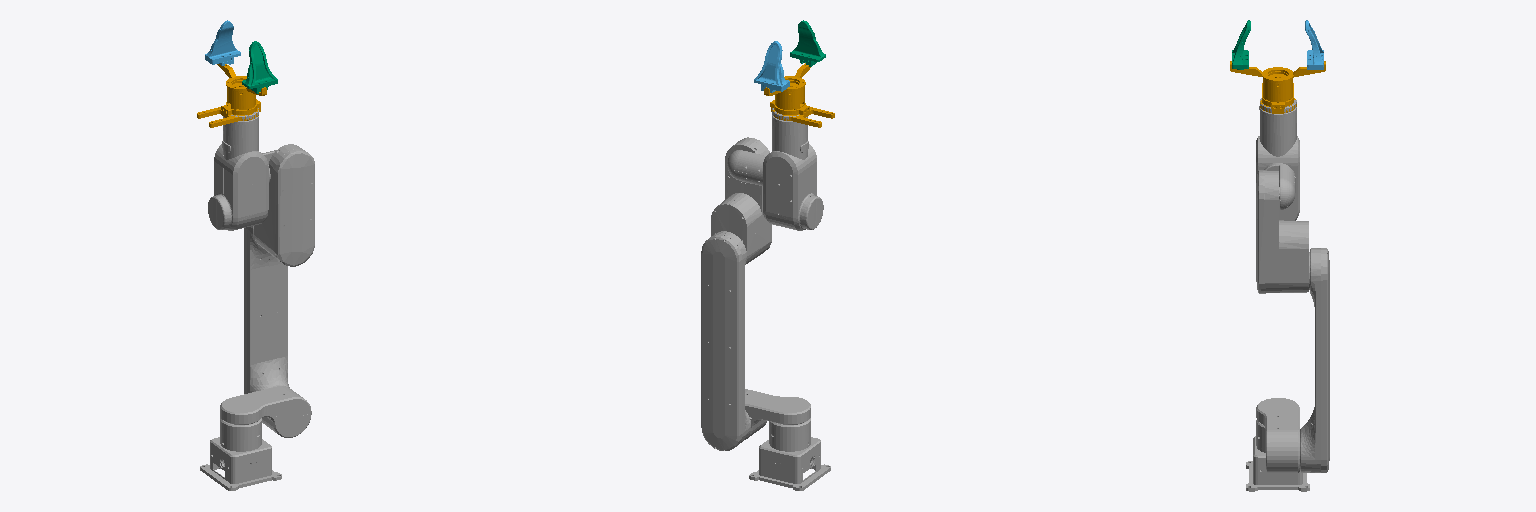
URDF robot description (spark2_v2_2):
<?xml version="1.0" ?>
<!-- =================================================================================== -->
<!-- |    This document was autogenerated by xacro from spark2_stl.xacro               | -->
<!-- |    EDITING THIS FILE BY HAND IS NOT RECOMMENDED                                 | -->
<!-- =================================================================================== -->
<robot name="spark2_v2_2">
  <mujoco>
    <compiler balanceinertia="true" discardvisual="false" meshdir="meshes"/>
  </mujoco>
  <material name="silver">
    <color rgba="0.700 0.700 0.700 1.000"/>
  </material>
  <link name="arm_base_link">
    <inertial>
      <origin rpy="0 0 0" xyz="0.000678366020361619 0.000650450303024658 0.0419206716961152"/>
      <mass value="0.415365145484454"/>
      <inertia ixx="0.000521278292861762" ixy="2.21370688018714E-06" ixz="3.53401377721654E-07" iyy="0.000499821552472947" iyz="1.19059750488371E-07" izz="0.000640044292539751"/>
    </inertial>
    <visual>
      <origin rpy="0 -0 0" xyz="0 0 0"/>
      <geometry>
        <mesh filename="meshes/arm/base_link.obj" scale="1 1 1"/>
      </geometry>
      <material name="silver"/>
    </visual>
    <collision>
      <origin rpy="0 -0 0" xyz="0 0 0"/>
      <geometry>
        <mesh filename="meshes/arm/base_link.obj" scale="1 1 1"/>
      </geometry>
    </collision>
  </link>
  <link name="arm_L1">
    <inertial>
      <origin rpy="0 0 0" xyz="0.0523118115572577 0.00594580107075411 0.00983465410868319"/>
      <mass value="0.534905861017287"/>
      <inertia ixx="0.000276838854041804" ixy="-4.31570539270566E-05" ixz="0.000115785773545033" iyy="0.000833335936719246" iyz="1.45298376550128E-05" izz="0.00081293822684724"/>
    </inertial>
    <visual>
      <origin rpy="0 -0 0" xyz="0 0 0"/>
      <geometry>
        <mesh filename="meshes/arm/L1.obj" scale="1 1 1"/>
      </geometry>
      <material name="silver"/>
    </visual>
    <collision>
      <origin rpy="0 -0 0" xyz="0 0 0"/>
      <geometry>
        <mesh filename="meshes/arm/L1.obj" scale="1 1 1"/>
      </geometry>
    </collision>
  </link>
  <link name="arm_L2">
    <inertial>
      <origin rpy="0 0 0" xyz="0.178655385833371 1.16424483877497E-05 0.0695175784974708"/>
      <mass value="1.04321954132946"/>
      <inertia ixx="0.000510824708514096" ixy="-1.32571036792121E-06" ixz="0.000200596291448722" iyy="0.0114932589328011" iyz="4.43270884571876E-10" izz="0.0118746553216229"/>
    </inertial>
    <visual>
      <origin rpy="0 -0 0" xyz="0 0 0"/>
      <geometry>
        <mesh filename="meshes/arm/L2.obj" scale="1 1 1"/>
      </geometry>
      <material name="silver"/>
    </visual>
    <collision>
      <origin rpy="0 -0 0" xyz="0 0 0"/>
      <geometry>
        <mesh filename="meshes/arm/L2.obj" scale="1 1 1"/>
      </geometry>
    </collision>
  </link>
  <link name="arm_L3">
    <inertial>
      <origin rpy="0 0 0" xyz="0.0685427075960562 3.46478452044191E-05 -0.000250345774393589"/>
      <mass value="0.604374693422943"/>
      <inertia ixx="0.00024224305007648" ixy="-8.02501252967998E-08" ixz="4.44546348099807E-05" iyy="0.00111923550432159" iyz="-7.1946457438659E-08" izz="0.00122911861120972"/>
    </inertial>
    <visual>
      <origin rpy="0 -0 0" xyz="0 0 0"/>
      <geometry>
        <mesh filename="meshes/arm/L3.obj" scale="1 1 1"/>
      </geometry>
      <material name="silver"/>
    </visual>
    <collision>
      <origin rpy="0 -0 0" xyz="0 0 0"/>
      <geometry>
        <mesh filename="meshes/arm/L3.obj" scale="1 1 1"/>
      </geometry>
    </collision>
  </link>
  <link name="arm_L4">
    <inertial>
      <origin rpy="0 0 0" xyz="3.85035658024835E-05 -0.0307497533444185 0.00771455130180919"/>
      <mass value="0.0680910386855528"/>
      <inertia ixx="5.02370842959246E-05" ixy="2.17941257400551E-08" ixz="-5.00505821446486E-09" iyy="1.3185332173706E-05" iyz="-5.35376641377241E-06" izz="4.80704614940244E-05"/>
    </inertial>
    <visual>
      <origin rpy="0 -0 0" xyz="0 0 0"/>
      <geometry>
        <mesh filename="meshes/arm/L4.obj" scale="1 1 1"/>
      </geometry>
      <material name="silver"/>
    </visual>
    <collision>
      <origin rpy="0 -0 0" xyz="0 0 0"/>
      <geometry>
        <mesh filename="meshes/arm/L4.obj" scale="1 1 1"/>
      </geometry>
    </collision>
  </link>
  <link name="arm_L5">
    <inertial>
      <origin rpy="0 0 0" xyz="6.5958025867564E-06 -0.00964895937031807 -0.000559142359287028"/>
      <mass value="0.666007703225141"/>
      <inertia ixx="0.000648028666449104" ixy="1.19136949417991E-07" ixz="-2.20406752608483E-07" iyy="0.00031206466544187" iyz="7.07164219256724E-06" izz="0.000664872886215904"/>
    </inertial>
    <visual>
      <origin rpy="0 -0 0" xyz="0 0 0"/>
      <geometry>
        <mesh filename="meshes/arm/L5.obj" scale="1 1 1"/>
      </geometry>
      <material name="silver"/>
    </visual>
    <collision>
      <origin rpy="0 -0 0" xyz="0 0 0"/>
      <geometry>
        <mesh filename="meshes/arm/L5.obj" scale="1 1 1"/>
      </geometry>
    </collision>
  </link>
  <link name="arm_L6">
    <inertial>
      <origin rpy="0 0 0" xyz="3.69716788001396E-15 -2.31531373934279E-16 0.00822650479261355"/>
      <mass value="0.0600936238717863"/>
      <inertia ixx="1.88959303343739E-05" ixy="5.03820847703936E-22" ixz="-4.24468440030164E-21" iyy="1.88959303343739E-05" iyz="-3.47054644732753E-22" izz="3.62039072584336E-05"/>
    </inertial>
    <visual>
      <origin rpy="0 -0 0" xyz="0 0 0"/>
      <geometry>
        <mesh filename="meshes/arm/L6.obj" scale="1 1 1"/>
      </geometry>
      <material name="silver"/>
    </visual>
    <collision>
      <origin rpy="0 -0 0" xyz="0 0 0"/>
      <geometry>
        <mesh filename="meshes/arm/L6.obj" scale="1 1 1"/>
      </geometry>
    </collision>
  </link>
  <joint name="arm_J1" type="revolute">
    <origin rpy="0 0 0" xyz="0 0 0.0982000000000019"/>
    <parent link="arm_base_link"/>
    <child link="arm_L1"/>
    <axis xyz="0 0 1"/>
    <limit effort="0" lower="-3.141593" upper="3.141593" velocity="0"/>
  </joint>
  <joint name="arm_J2" type="revolute">
    <origin rpy="-1.5708 -1.5708 0" xyz="0.096 0 0"/>
    <parent link="arm_L1"/>
    <child link="arm_L2"/>
    <axis xyz="0 0 1"/>
    <limit effort="0" lower="-1.570796" upper="1.570796" velocity="0"/>
  </joint>
  <joint name="arm_J3" type="revolute">
    <origin rpy="0 0 0" xyz="0.3465 0 0"/>
    <parent link="arm_L2"/>
    <child link="arm_L3"/>
    <axis xyz="0 0 1"/>
    <limit effort="0" lower="-3.141593" upper="3.141593" velocity="0"/>
  </joint>
  <joint name="arm_J4" type="revolute">
    <origin rpy="0 0 0" xyz="0.15 0 0"/>
    <parent link="arm_L3"/>
    <child link="arm_L4"/>
    <axis xyz="0 0 1"/>
    ·
            
    <limit effort="0" lower="-0.1745" upper="3.141593" velocity="0"/>
  </joint>
  <joint name="arm_J5" type="revolute">
    <origin rpy="1.5708 -1.5708 0" xyz="0 -0.09572 0"/>
    <parent link="arm_L4"/>
    <child link="arm_L5"/>
    <axis xyz="0 0 1"/>
    <limit effort="0" lower="-3.141593" upper="3.141593" velocity="0"/>
  </joint>
  <joint name="arm_J6" type="revolute">
    <origin rpy="1.5708 0 0" xyz="0 -0.1189 0"/>
    <parent link="arm_L5"/>
    <child link="arm_L6"/>
    <axis xyz="0 0 1"/>
    <limit effort="0" lower="-6.2831853" upper="6.2831853" velocity="0"/>
  </joint>
  <link name="arm_end_effector">
        </link>
  <joint name="arm_J7" type="fixed">
    <origin rpy="0 0 0" xyz="0 0 0"/>
    <parent link="arm_L6"/>
    <child link="arm_end_effector"/>
  </joint>
  <link name="gripper_base_link">
    <inertial>
      <origin rpy="0 0 0" xyz="-4.57881274589476E-07 0.00292048565174834 0.035228292855448"/>
      <mass value="0.139307939402755"/>
      <inertia ixx="5.09788715698113E-05" ixy="1.05201596434374E-09" ixz="2.54812926574347E-10" iyy="6.93741051330098E-05" iyz="-3.43895263735984E-07" izz="0.000109465850575503"/>
    </inertial>
    <visual name="base_link_visual">
      <origin rpy="0 0 0" xyz="0 0 0"/>
      <geometry>
        <mesh filename="meshes/gripper/base_link.stl" scale="1 1 1"/>
      </geometry>
    </visual>
    <collision name="base_link_collision">
      <origin rpy="0 0 0" xyz="0 0 0"/>
      <geometry>
        <mesh filename="meshes/gripper/base_link.stl" scale="1 1 1"/>
      </geometry>
    </collision>
  </link>
  <link name="gripper_L1">
    <inertial>
      <origin rpy="0 0 0" xyz="-0.0027017 -0.065055 -0.017375"/>
      <mass value="0.068045"/>
      <inertia ixx="1.738E-05" ixy="4.8616E-07" ixz="6.8131E-09" iyy="1.1991E-05" iyz="-2.6673E-06" izz="2.134E-05"/>
    </inertial>
    <visual name="L1_visual">
      <origin rpy="0 0 0" xyz="0 0 0"/>
      <geometry>
        <mesh filename="meshes/gripper/L1.stl" scale="1 1 1"/>
      </geometry>
    </visual>
    <collision name="L1_collision">
      <origin rpy="0 0 0" xyz="0 0 0"/>
      <geometry>
        <mesh filename="meshes/gripper/L1.stl" scale="1 1 1"/>
      </geometry>
    </collision>
  </link>
  <joint name="gripper_J1" type="prismatic">
    <origin rpy="1.5708 0 -1.5708" xyz="0.047697 0 0.16189"/>
    <parent link="gripper_base_link"/>
    <child link="gripper_L1"/>
    <axis xyz="0 0 -1"/>
    <limit effort="5" lower="-0.0477" upper="0" velocity="10"/>
  </joint>
  <link name="gripper_L2">
    <inertial>
      <origin rpy="0 0 0" xyz="0 0 0"/>
      <mass value="0"/>
      <inertia ixx="0" ixy="0" ixz="0" iyy="0" iyz="0" izz="0"/>
    </inertial>
    <visual name="L2_visual">
      <origin rpy="0 0 0" xyz="0 0 0"/>
      <geometry>
        <mesh filename="meshes/gripper/L2.stl" scale="1 1 1"/>
      </geometry>
    </visual>
    <collision name="L2_collision">
      <origin rpy="0 0 0" xyz="0 0 0"/>
      <geometry>
        <mesh filename="meshes/gripper/L2.stl" scale="1 1 1"/>
      </geometry>
    </collision>
  </link>
  <joint name="gripper_J1_1" type="prismatic">
    <origin rpy="1.5708 0 1.5708" xyz="-0.047697 0 0.16188"/>
    <parent link="gripper_base_link"/>
    <child link="gripper_L2"/>
    <axis xyz="0 0 1"/>
    <limit effort="5" lower="0" upper="0.0477" velocity="10"/>
    <mimic joint="gripper_J1" multiplier="-1" offset="0"/>
  </joint>
  <joint name="gripper_J0" type="fixed">
    <origin rpy="0 0 0" xyz="0 0 0"/>
    <parent link="arm_end_effector"/>
    <child link="gripper_base_link"/>
  </joint>
</robot>

--- Render facts (derived) ---
The picture shows the robot from 3 angles, left to right: view 1: azimuth 30°, elevation 25°; view 2: azimuth 150°, elevation 25°; view 3: azimuth 270°, elevation 25°; orthographic projection.
Model spark2_v2_2 with 11 links and 10 joints (6 revolute, 2 prismatic, 2 fixed), rooted at arm_base_link, posed all joints at 0.
Links seen in each view (by area): view 1: arm_L2, arm_L3, arm_L5, arm_base_link, arm_L1, gripper_base_link, gripper_L2, gripper_L1; view 2: arm_L2, arm_L5, arm_base_link, arm_L3, arm_L1, gripper_base_link, arm_L4, gripper_L1, gripper_L2; view 3: arm_L3, arm_L2, arm_L1, arm_L5, arm_base_link, gripper_base_link, arm_L4, gripper_L1, gripper_L2.
Link boxes in pixels (bbox=[...]): arm_L2: bbox=[244, 226, 289, 393]; arm_L3: bbox=[254, 144, 314, 266]; arm_L5: bbox=[208, 116, 268, 230]; arm_base_link: bbox=[200, 417, 281, 490]; arm_L1: bbox=[220, 386, 311, 437]; gripper_base_link: bbox=[197, 64, 266, 127]; gripper_L2: bbox=[242, 41, 277, 93]; gripper_L1: bbox=[205, 20, 240, 65]; arm_L2: bbox=[701, 231, 750, 450]; arm_L5: bbox=[763, 115, 823, 230]; arm_base_link: bbox=[749, 418, 830, 490]; arm_L3: bbox=[711, 137, 771, 263]; arm_L1: bbox=[745, 389, 810, 439]; gripper_base_link: bbox=[764, 63, 834, 127]; arm_L4: bbox=[727, 150, 765, 185]; gripper_L1: bbox=[754, 41, 789, 92]; gripper_L2: bbox=[790, 20, 825, 66]; arm_L3: bbox=[1256, 170, 1308, 293]; arm_L2: bbox=[1300, 248, 1329, 472]; arm_L1: bbox=[1256, 398, 1299, 472]; arm_L5: bbox=[1256, 106, 1299, 220]; arm_base_link: bbox=[1246, 420, 1309, 491]; gripper_base_link: bbox=[1230, 61, 1325, 113]; arm_L4: bbox=[1264, 163, 1295, 209]; gripper_L1: bbox=[1305, 20, 1323, 69]; gripper_L2: bbox=[1232, 20, 1250, 69].
Bounding box of the posed robot: 0.2152 × 0.1749 × 0.8827 m (x, y, z).
Meshes: 10 distinct files referenced, 10 mesh visuals loaded (3 binary STL, 7 OBJ).
